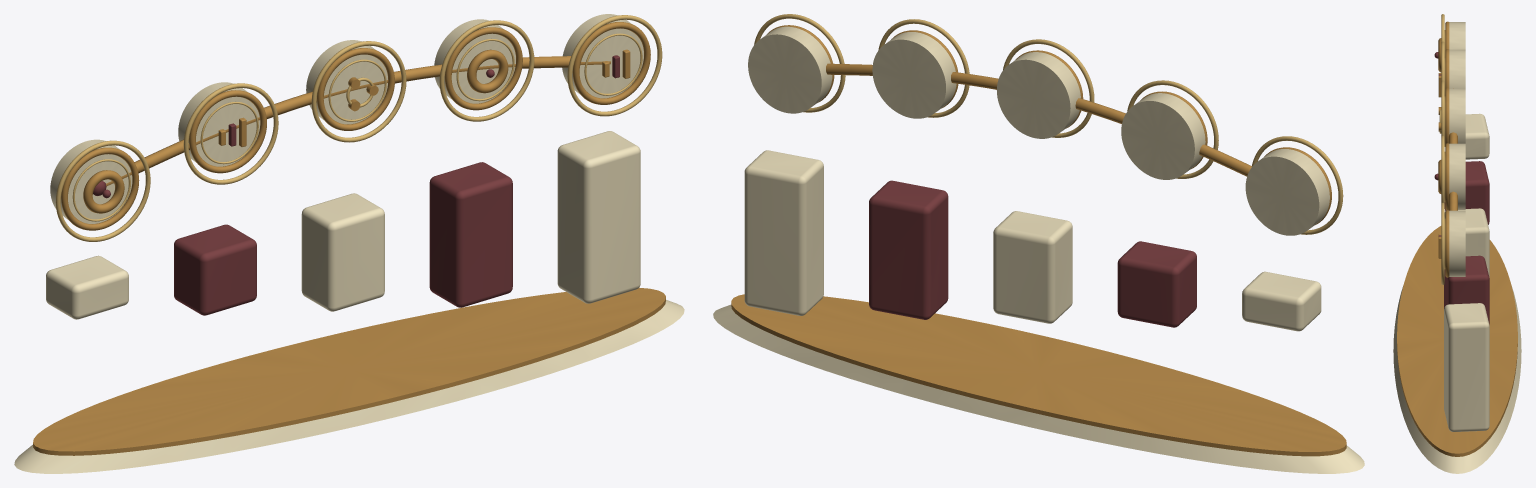
The model's file is method.glb.
3 views of the same model, side by side, from view 1: azimuth 30°, elevation 25°; view 2: azimuth 150°, elevation 25°; view 3: azimuth 270°, elevation 25° (orthographic). The views are drawn at different scales.
Parts seen in each view (by area): view 1: detail_299, detail_294, detail_298, detail_285, detail_277, detail_267, detail_258, detail_288, detail_261, detail_270, detail_296, detail_253 (+13 smaller); view 2: detail_299, detail_294, detail_298, detail_285, detail_277, detail_267, detail_253, detail_261, detail_288, detail_270, detail_280, detail_258 (+6 smaller); view 3: detail_299, detail_294, detail_298, detail_285, detail_277, detail_267, detail_288, detail_258, detail_280, detail_270, detail_261, detail_253 (+9 smaller).
Part boxes in pixels (x1,y1,x2,y2): detail_299: [33, 287, 665, 455]; detail_294: [557, 131, 640, 303]; detail_298: [14, 300, 684, 473]; detail_285: [429, 162, 512, 307]; detail_277: [301, 193, 384, 311]; detail_267: [174, 224, 256, 315]; detail_258: [46, 255, 128, 319]; detail_288: [562, 14, 643, 98]; detail_261: [178, 82, 260, 166]; detail_270: [306, 40, 387, 124]; detail_296: [106, 56, 610, 186]; detail_253: [50, 139, 132, 223]; detail_299: [731, 294, 1346, 456]; detail_294: [744, 150, 823, 315]; detail_298: [713, 304, 1364, 473]; detail_285: [869, 180, 948, 319]; detail_277: [993, 211, 1072, 323]; detail_267: [1117, 241, 1196, 327]; detail_253: [1245, 149, 1329, 235]; detail_261: [1121, 93, 1205, 179]; detail_288: [748, 26, 832, 113]; detail_270: [997, 52, 1080, 138]; detail_280: [872, 32, 956, 118]; detail_258: [1242, 271, 1321, 331]; detail_299: [1397, 226, 1517, 456]; detail_294: [1444, 303, 1489, 431]; detail_298: [1393, 286, 1521, 473]; detail_285: [1444, 255, 1489, 324]; detail_277: [1444, 208, 1489, 277]; detail_267: [1444, 161, 1489, 224]; detail_288: [1449, 210, 1465, 276]; detail_258: [1465, 113, 1489, 159]; detail_280: [1449, 143, 1465, 209]; detail_270: [1449, 88, 1465, 143]; detail_261: [1449, 49, 1465, 88]; detail_253: [1449, 22, 1465, 49].
Size of the model in its own units: 5.6 by 2.83 by 1.23.
